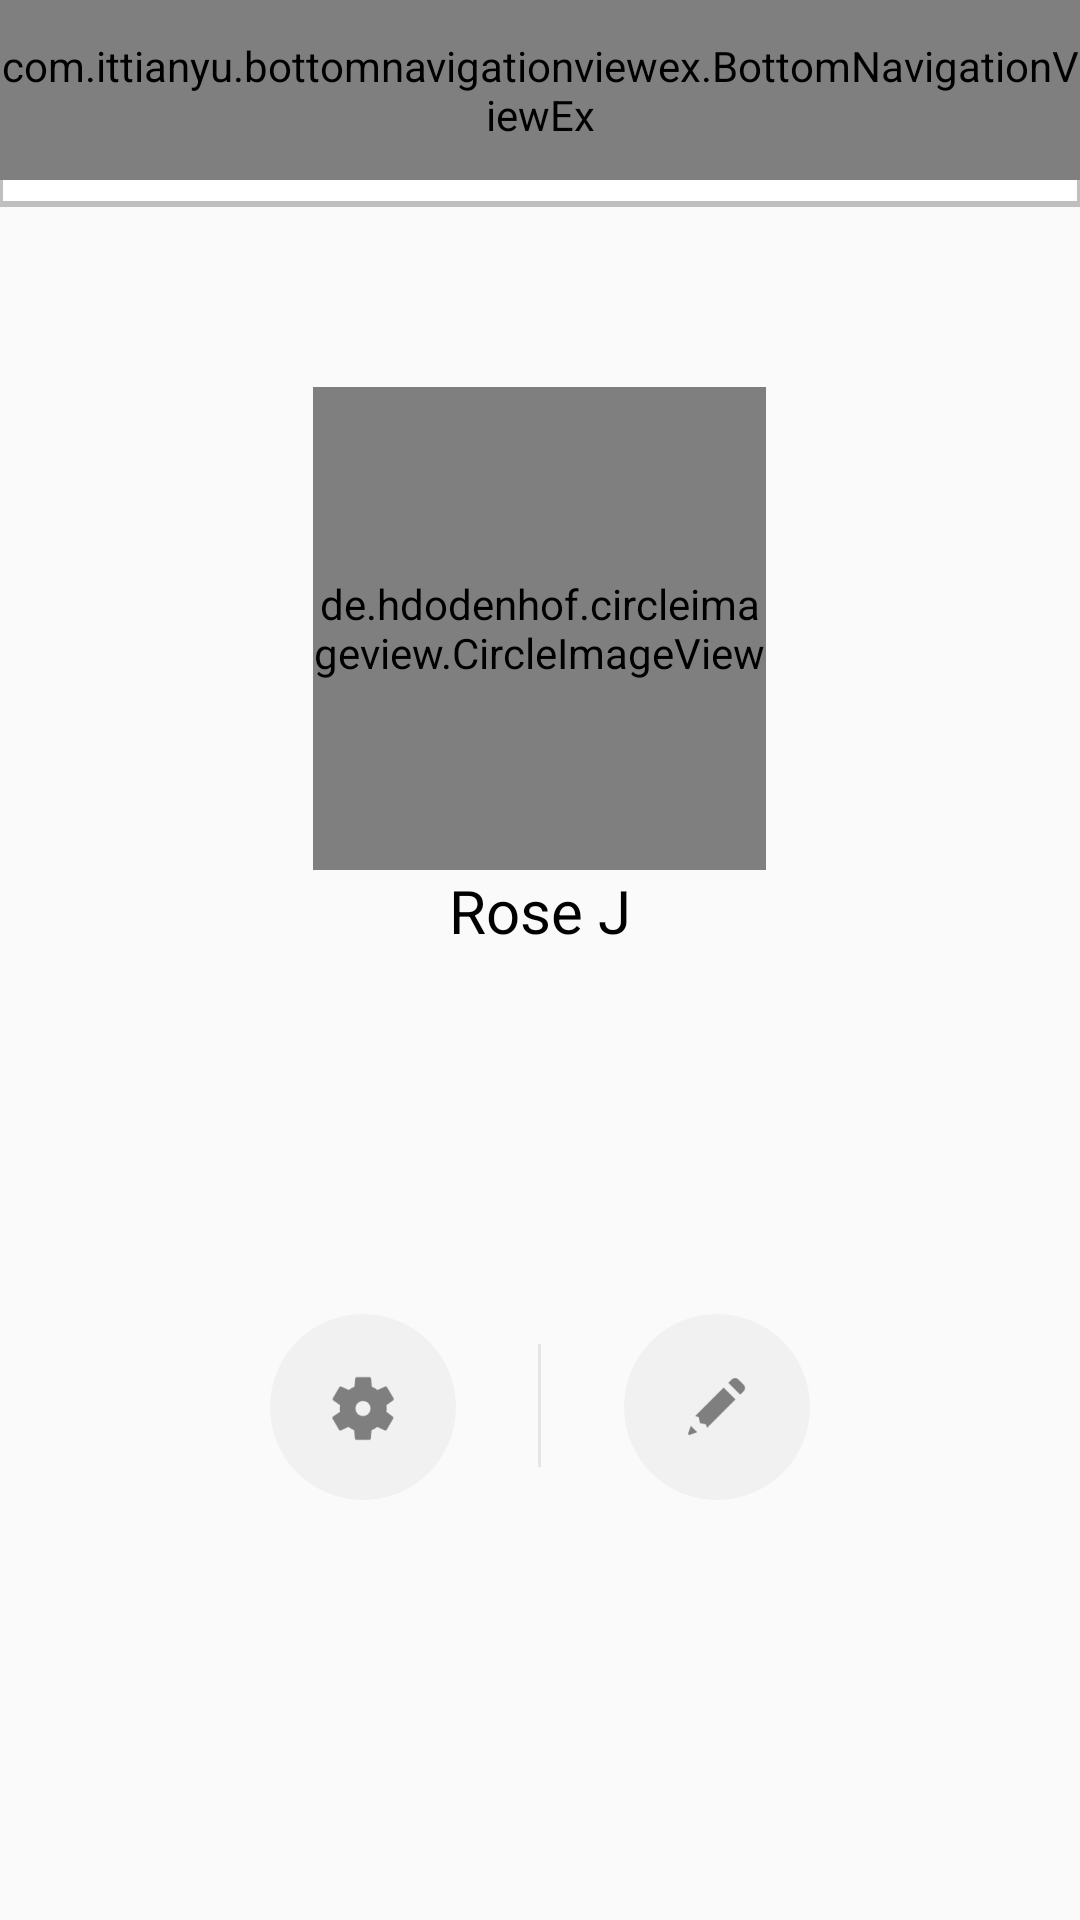

Named icons in this screenshot (1080*1920) and their centers, point (x, y):
edit: point (717, 1407)
settings: point (363, 1408)
